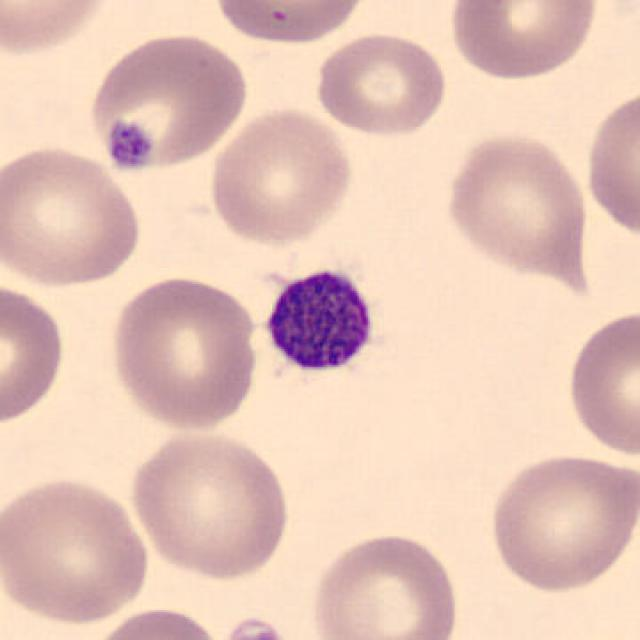Platelets: (249, 252, 386, 399), (103, 118, 157, 175), (216, 613, 293, 640)
RBC: (124, 426, 294, 582), (105, 270, 261, 433), (84, 28, 250, 175), (0, 472, 155, 628), (441, 127, 594, 280), (0, 139, 146, 291), (484, 450, 638, 594), (204, 102, 356, 247), (306, 527, 464, 640), (313, 28, 450, 139), (444, 0, 604, 83), (562, 303, 638, 462), (0, 275, 69, 430), (582, 83, 638, 243), (208, 0, 375, 48), (0, 0, 114, 58), (85, 604, 227, 640)
